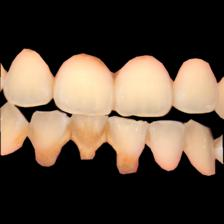cavity: (77, 135, 96, 159), (34, 147, 58, 163), (98, 124, 116, 142), (119, 154, 135, 170), (68, 125, 82, 140), (23, 123, 33, 137), (144, 131, 153, 144), (14, 134, 24, 144), (112, 73, 118, 83)
tooth: (54, 53, 114, 114), (117, 56, 174, 117), (7, 50, 54, 105), (112, 114, 152, 175), (30, 107, 69, 168), (176, 58, 215, 114), (72, 115, 112, 163), (186, 122, 221, 176), (151, 120, 185, 170), (1, 102, 24, 156)
